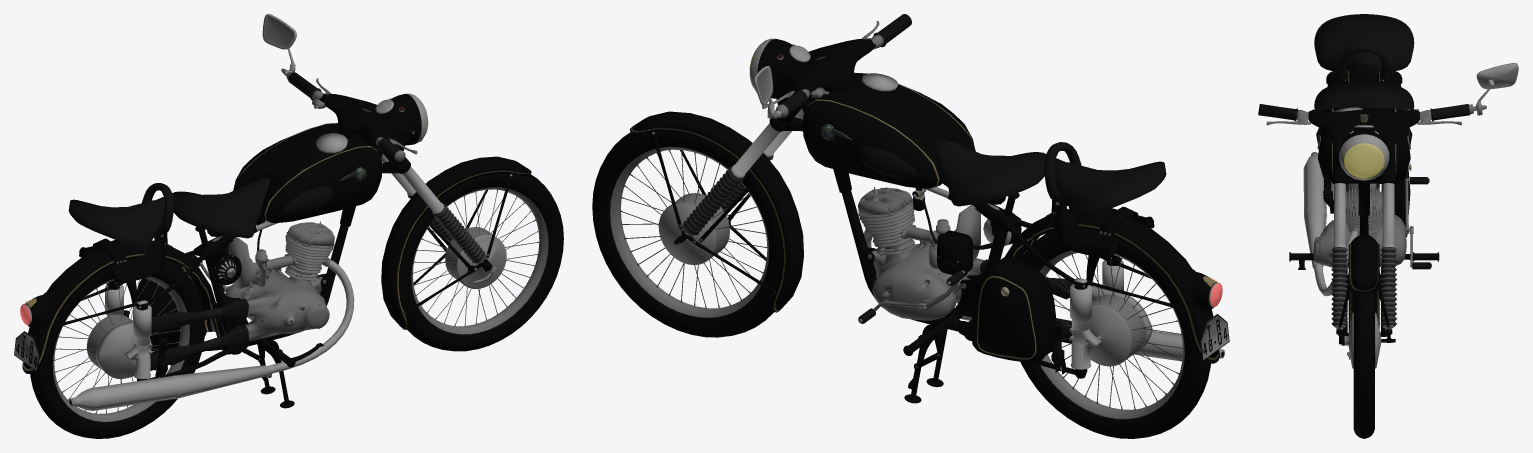
3 renders of one model, left to right at view 1: azimuth 30°, elevation 25°; view 2: azimuth 150°, elevation 25°; view 3: azimuth 270°, elevation 25°, orthographic. The views are drawn at different scales.
Parts seen in each view (by area): view 1: rt_125_textured; view 2: rt_125_textured; view 3: rt_125_textured.
Boxes of the visible parts, left/top/right/bottom form: rt_125_textured: left=14, top=14, right=563, bottom=438; rt_125_textured: left=592, top=14, right=1229, bottom=438; rt_125_textured: left=1258, top=14, right=1518, bottom=438.
Bounding box in the file's own units: 3.56 × 1.97 × 1.52.
Materials: 2 (2 with a texture image).
